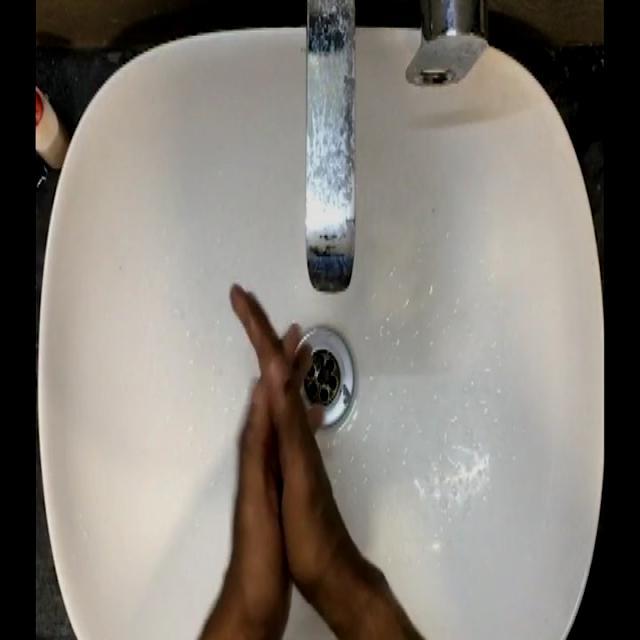step_3: (200, 270, 354, 608)
